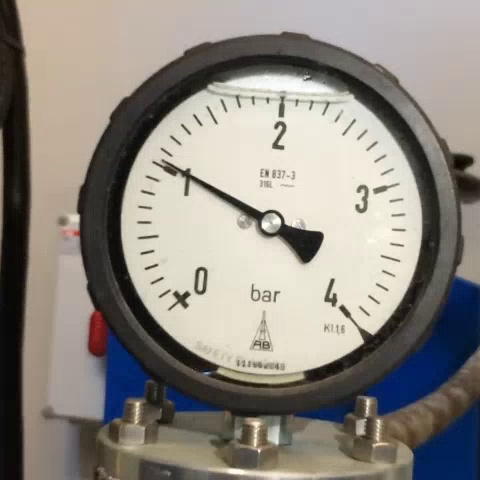Round_Meter: (109, 56, 433, 384)
